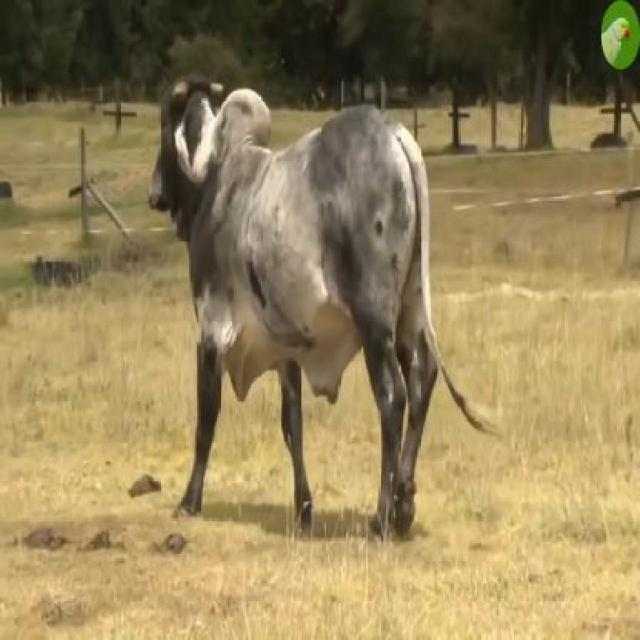Cow: (148, 77, 438, 538)
